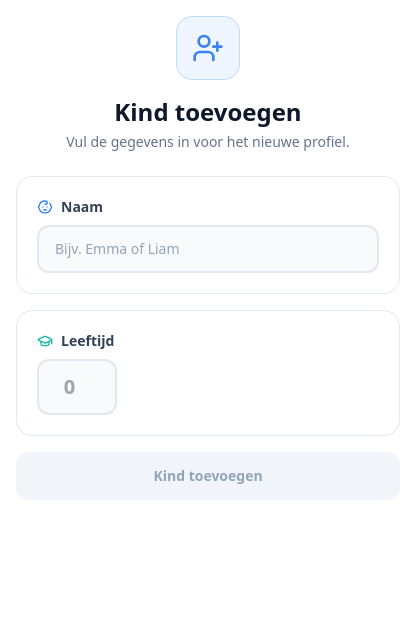
Test case: ParentAddChild › follows the age again when it changes after the parent picked a grade
Check: the heading "Kind toevoegen" is shown, box [114,95,302,128]
Type "7" into the number field with placeholder "0" at (77, 387), box [37,359,117,415]
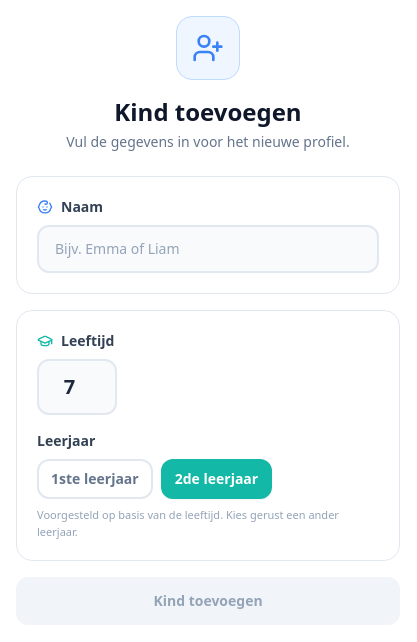
Click the radio button labelled "1ste leerjaar" at (95, 479), box [37,459,153,499]
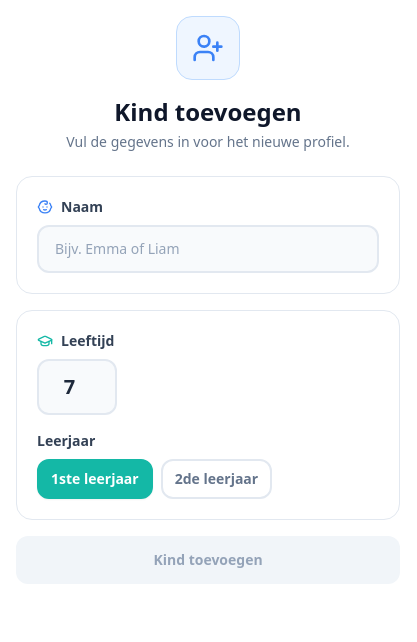
Check: the radio button labelled "1ste leerjaar" is checked, box [37,459,153,499]
Replace the text in the number field with placeholder "0" with "8" at (77, 387), box [37,359,117,415]
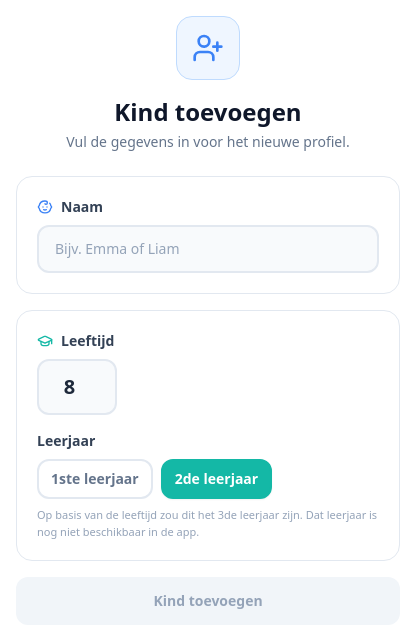
Check: the radio button labelled "2de leerjaar" is checked, box [161,459,272,499]
